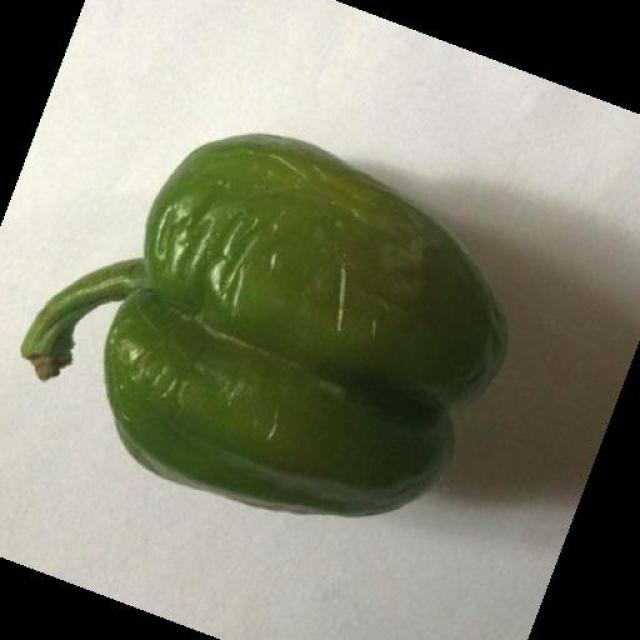Stale_Capsicum: (70, 85, 499, 523)
